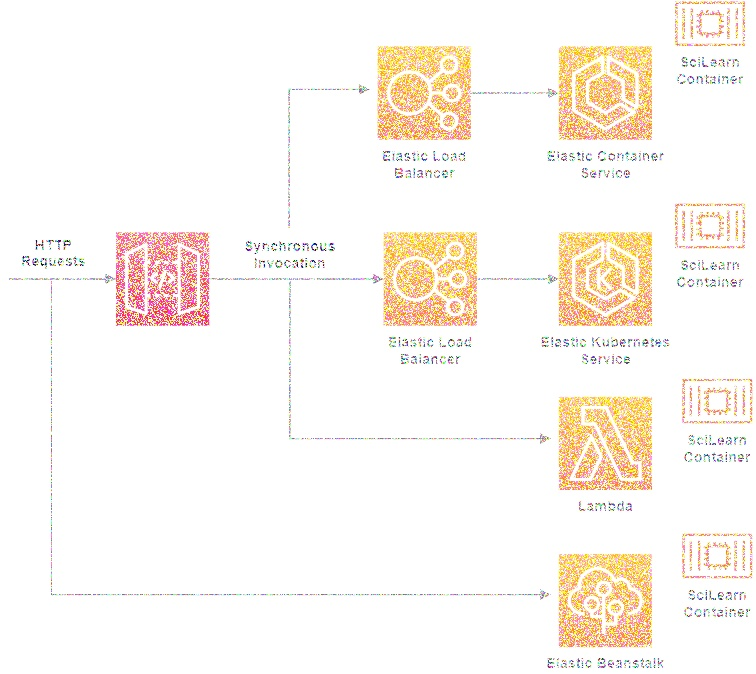API-Gateway: (107, 223, 221, 338)
Container: (667, 193, 753, 256), (673, 523, 756, 587), (679, 367, 756, 430), (667, 0, 752, 54)
EKS: (555, 225, 661, 330)
ELB: (369, 35, 481, 148), (371, 223, 486, 331)
Elastic Container Service: (555, 39, 660, 150)
Lambda: (551, 389, 660, 496)
